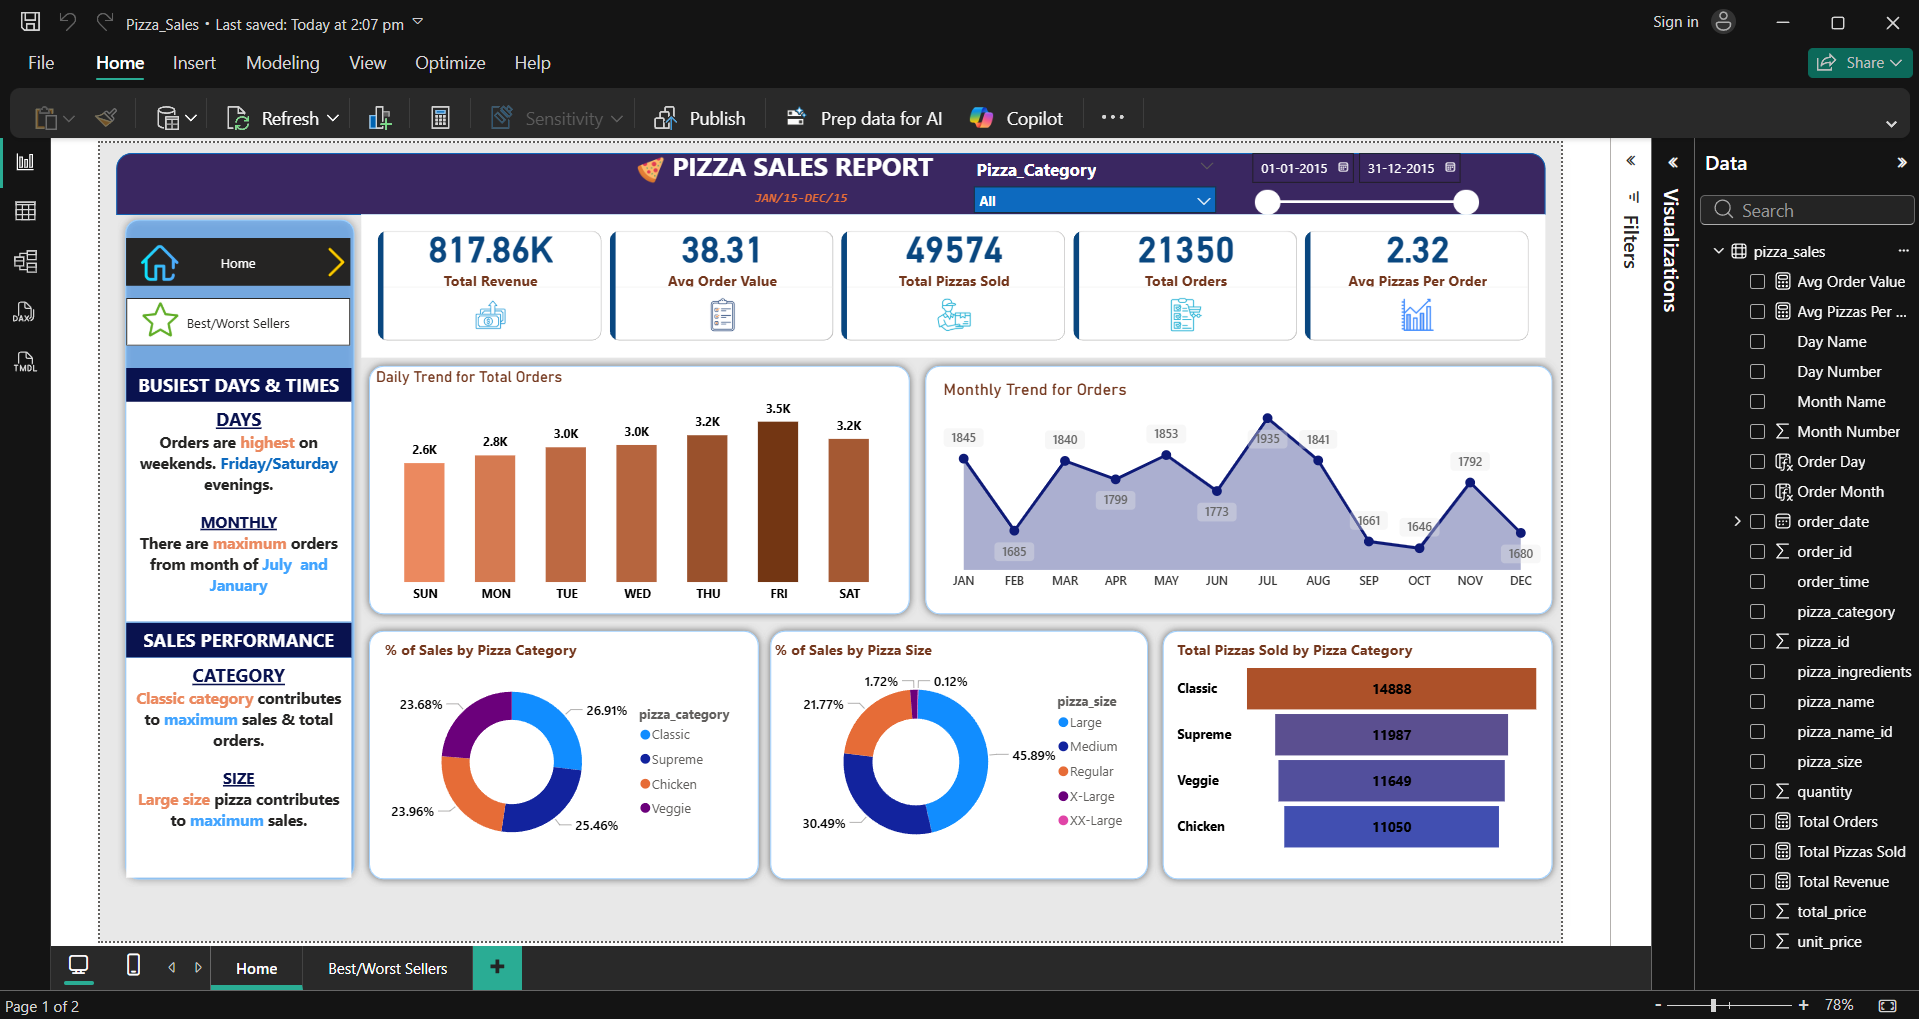

The page's visual inventory and layout, read from the dashboard file:
{"tool":"powerbi","page":{"name":"Home","canvas":[1500,820],"ordinal":0},"visuals":[{"type":"shape","box":[17,9.9,1467.7,63.8],"z":0},{"type":"cardVisual","fields":{"Data":["pizza_sales.Total Revenue","pizza_sales.Avg Order Value","pizza_sales.Total Pizzas Sold","pizza_sales.Total Orders","pizza_sales.Avg Pizzas Per Order"]},"box":[268.8,73.8,1216.2,147.5],"z":1000},{"type":"textbox","box":[555.3,0,331.8,45.9],"z":2000},{"type":"textbox","box":[633.3,41.1,174.3,28.3],"z":3000},{"type":"image","box":[543.8,13.8,42.5,27.5],"z":4000},{"type":"shape","box":[268.8,221.2,571.2,271.2],"z":5000},{"type":"columnChart","title":"Daily Trend for Total Orders","fields":{"Category":["pizza_sales.Order Day"],"Y":["pizza_sales.Total Orders"]},"box":[278.8,231.2,547.5,250],"z":6000},{"type":"shape","box":[840,221.2,660,271.2],"z":7000},{"type":"areaChart","title":"Monthly Trend for Orders","fields":{"Category":["pizza_sales.Order Month"],"Y":["pizza_sales.Total Orders"]},"box":[861.2,242.5,623.8,225],"z":8000},{"type":"shape","box":[268.8,492.5,416.2,271.2],"z":9000},{"type":"shape","box":[680,492.5,403.8,271.2],"z":10000},{"type":"shape","box":[1083.8,492.5,416.2,271.2],"z":11000},{"type":"donutChart","title":"% of Sales by Pizza Category","fields":{"Category":["pizza_sales.pizza_category"],"Y":["pizza_sales.Total Revenue"]},"box":[287.5,510,380,232.5],"z":12000},{"type":"donutChart","title":"% of Sales by Pizza Size","fields":{"Y":["pizza_sales.Total Revenue"],"Category":["pizza_sales.pizza_size"]},"box":[687.5,510,380,232.5],"z":13000},{"type":"funnel","title":"Total Pizzas Sold by Pizza Category","fields":{"Category":["pizza_sales.pizza_category"],"Y":["pizza_sales.Total Pizzas Sold"]},"box":[1101.2,510,383.8,223.8],"z":14000},{"type":"shape","box":[17.5,70,251.2,693.8],"z":15000},{"type":"textbox","box":[26.9,230.9,230.9,35.4],"z":16000},{"type":"textbox","box":[26.9,266.3,230.9,225.3],"z":17000},{"type":"textbox","box":[26.9,493,230.9,35.4],"z":18000},{"type":"textbox","box":[26.9,528.4,230.9,225.3],"z":19000},{"type":"slicer","fields":{"Values":["pizza_sales.pizza_category"]},"box":[886.9,9.9,269.2,63.8],"z":20000},{"type":"slicer","fields":{"Values":["pizza_sales.order_date"]},"box":[1170.2,0,253.6,83.6],"z":21000},{"type":"pageNavigator","box":[26.9,97.8,230.9,49.6],"z":22000},{"type":"pageNavigator","box":[26.9,158.7,230.9,49.6],"z":23000},{"type":"image","box":[226.7,97.8,31.2,49.6],"z":24000},{"type":"image","box":[26.9,103.4,69.4,38.3],"z":25000},{"type":"image","box":[43.9,141.7,36.8,79.3],"z":26000}]}

Visuals, with their boxes on the page's 1500x820 design canvas (x1, y1, x2, y2). These are canvas units, not pixel positions in the 1919x1019 screenshot, which may show the page scaled, cropped or inside an application window:
shape: rect(17, 10, 1485, 74)
cardVisual - pizza_sales.Total Revenue x pizza_sales.Avg Order Value: rect(269, 74, 1485, 221)
textbox: rect(555, 0, 887, 46)
textbox: rect(633, 41, 808, 69)
image: rect(544, 14, 586, 41)
shape: rect(269, 221, 840, 492)
"Daily Trend for Total Orders" columnChart: rect(279, 231, 826, 481)
shape: rect(840, 221, 1500, 492)
"Monthly Trend for Orders" areaChart: rect(861, 242, 1485, 468)
shape: rect(269, 492, 685, 764)
shape: rect(680, 492, 1084, 764)
shape: rect(1084, 492, 1500, 764)
"% of Sales by Pizza Category" donutChart: rect(288, 510, 668, 742)
"% of Sales by Pizza Size" donutChart: rect(688, 510, 1068, 742)
"Total Pizzas Sold by Pizza Category" funnel: rect(1101, 510, 1485, 734)
shape: rect(18, 70, 269, 764)
textbox: rect(27, 231, 258, 266)
textbox: rect(27, 266, 258, 492)
textbox: rect(27, 493, 258, 528)
textbox: rect(27, 528, 258, 754)
slicer - pizza_sales.pizza_category: rect(887, 10, 1156, 74)
slicer - pizza_sales.order_date: rect(1170, 0, 1424, 84)
pageNavigator: rect(27, 98, 258, 147)
pageNavigator: rect(27, 159, 258, 208)
image: rect(227, 98, 258, 147)
image: rect(27, 103, 96, 142)
image: rect(44, 142, 81, 221)
